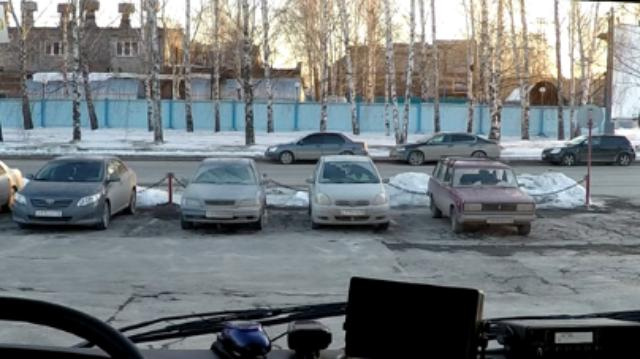non emergency car: (12, 156, 140, 234), (429, 158, 538, 240), (304, 154, 399, 236), (180, 158, 270, 234), (388, 131, 506, 167), (264, 131, 373, 168), (539, 135, 638, 170)
